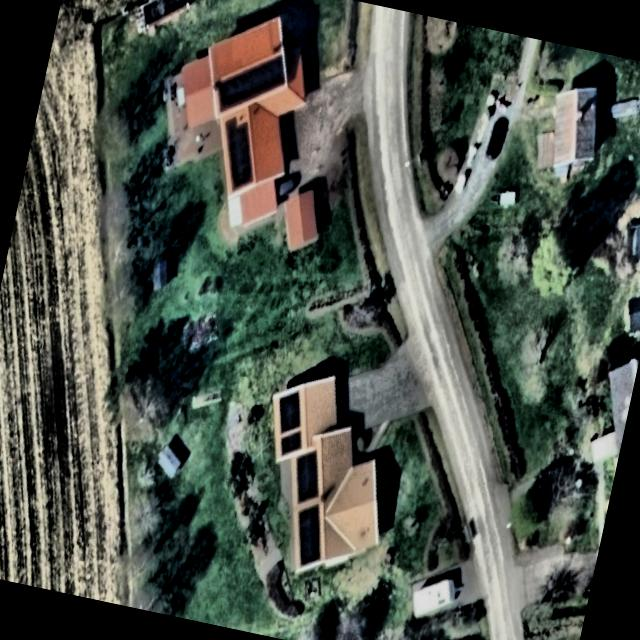roof_pv: (210, 115, 268, 198), (286, 500, 332, 572), (245, 46, 292, 110), (284, 444, 330, 508), (211, 61, 253, 117), (269, 386, 311, 437), (275, 424, 308, 462)
